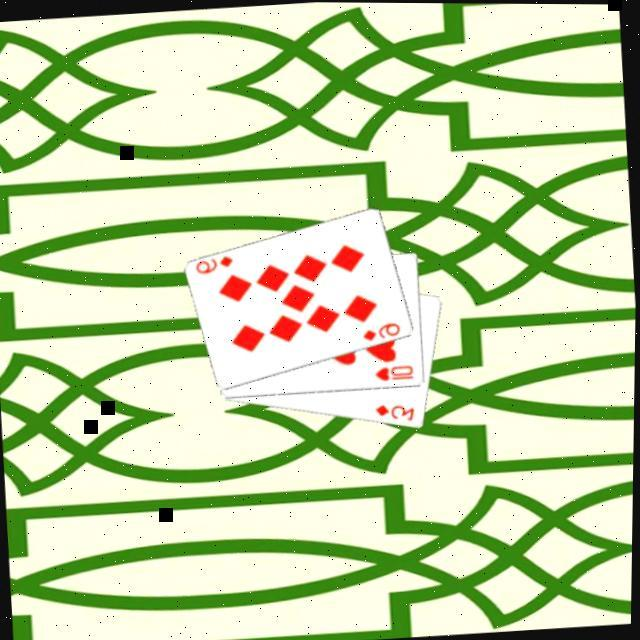10H: (371, 360, 415, 383)
3D: (370, 398, 417, 425)
9D: (358, 317, 403, 342), (190, 251, 234, 276)
